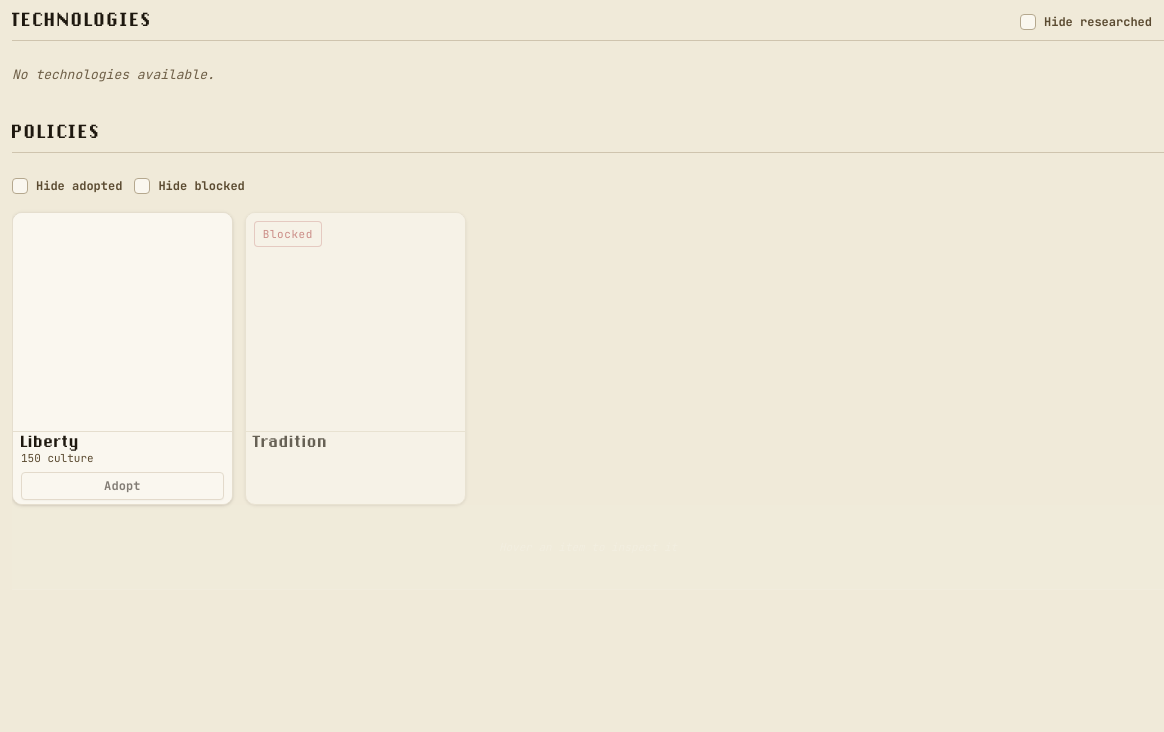
Test case: Story 51-01: Policy panel › hide-blocked toggle filters blocked policies
Check: the list item with test id "policy-tradition" is shown, box left=245, top=212, right=466, bottom=505
Click the checkbox with test id "policy-hide-blocked": (142, 186) left=134, top=178, right=150, bottom=194
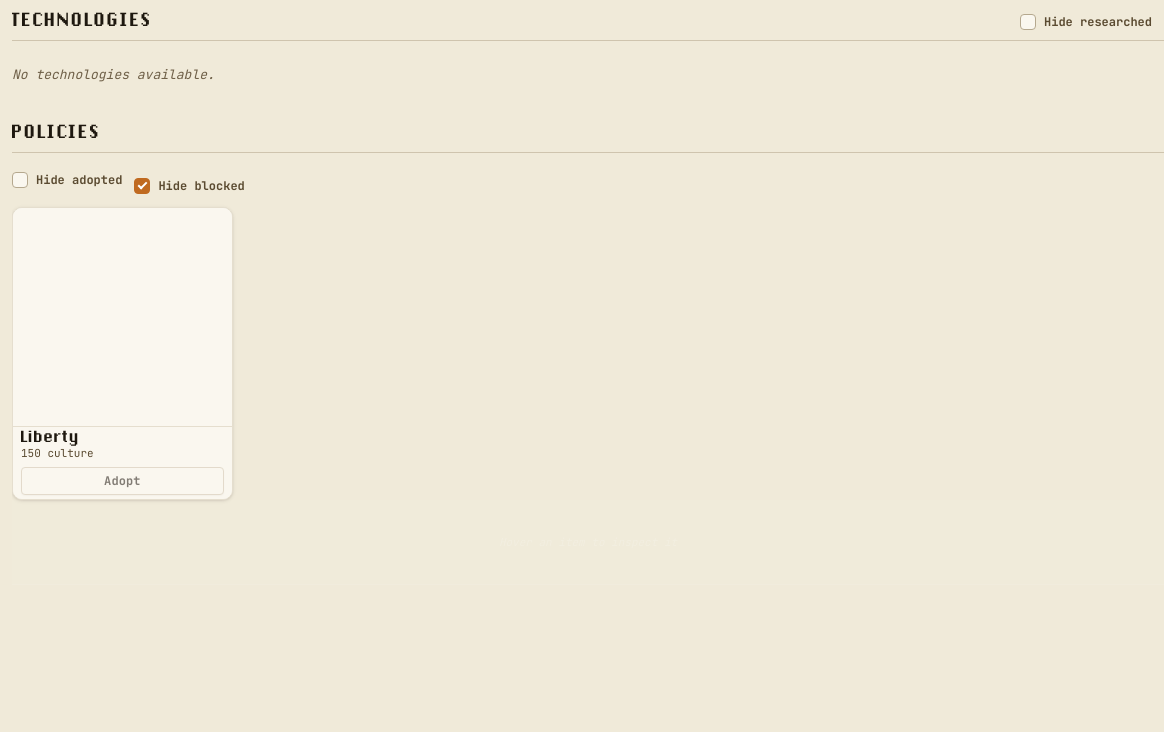
Check: the list item with test id "policy-liberty" is shown, box left=12, top=206, right=233, bottom=500
Check: the list item with test id "policy-tradition" is gone
